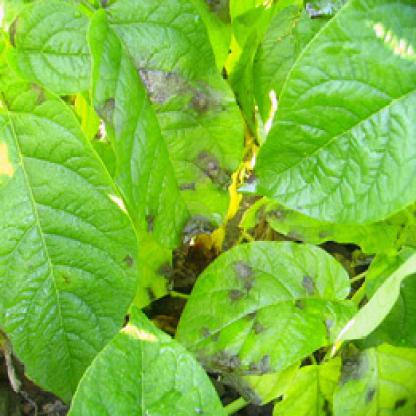potato leaf late blight: (88, 2, 250, 250), (174, 237, 360, 381)
